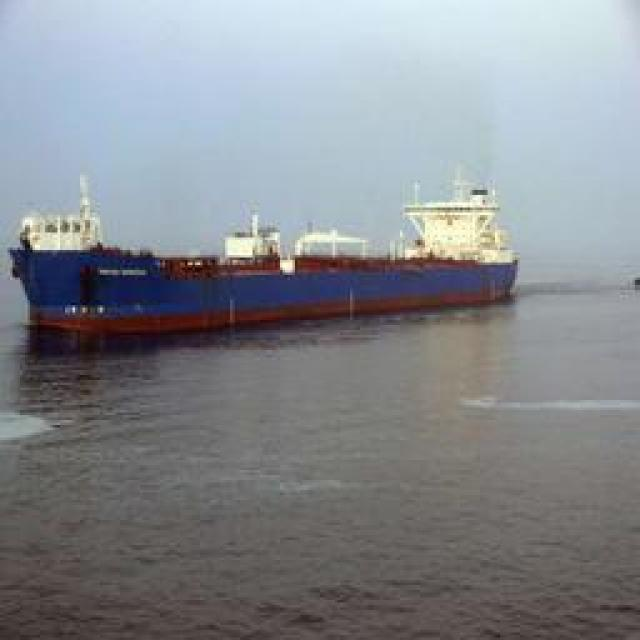CIV_Ship: (6, 180, 519, 328)
